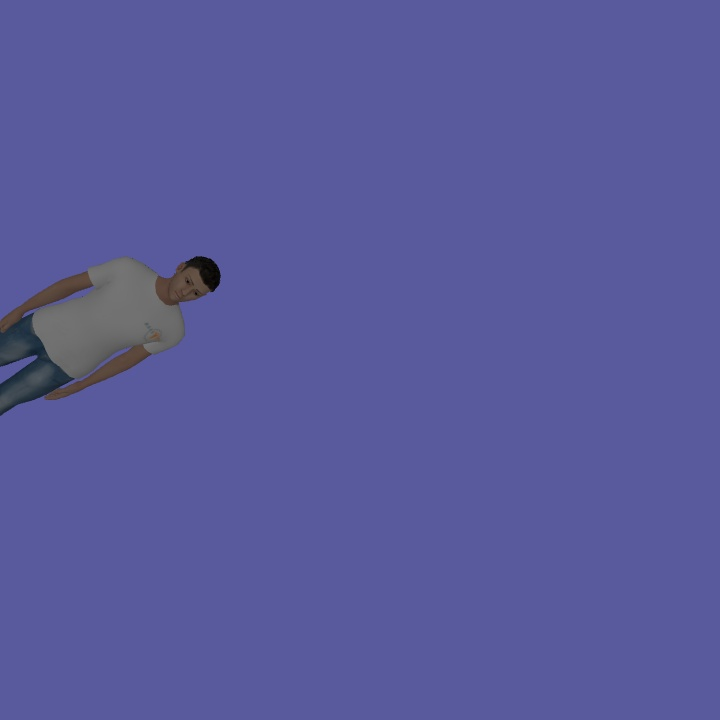victim: (1, 251, 223, 418)
